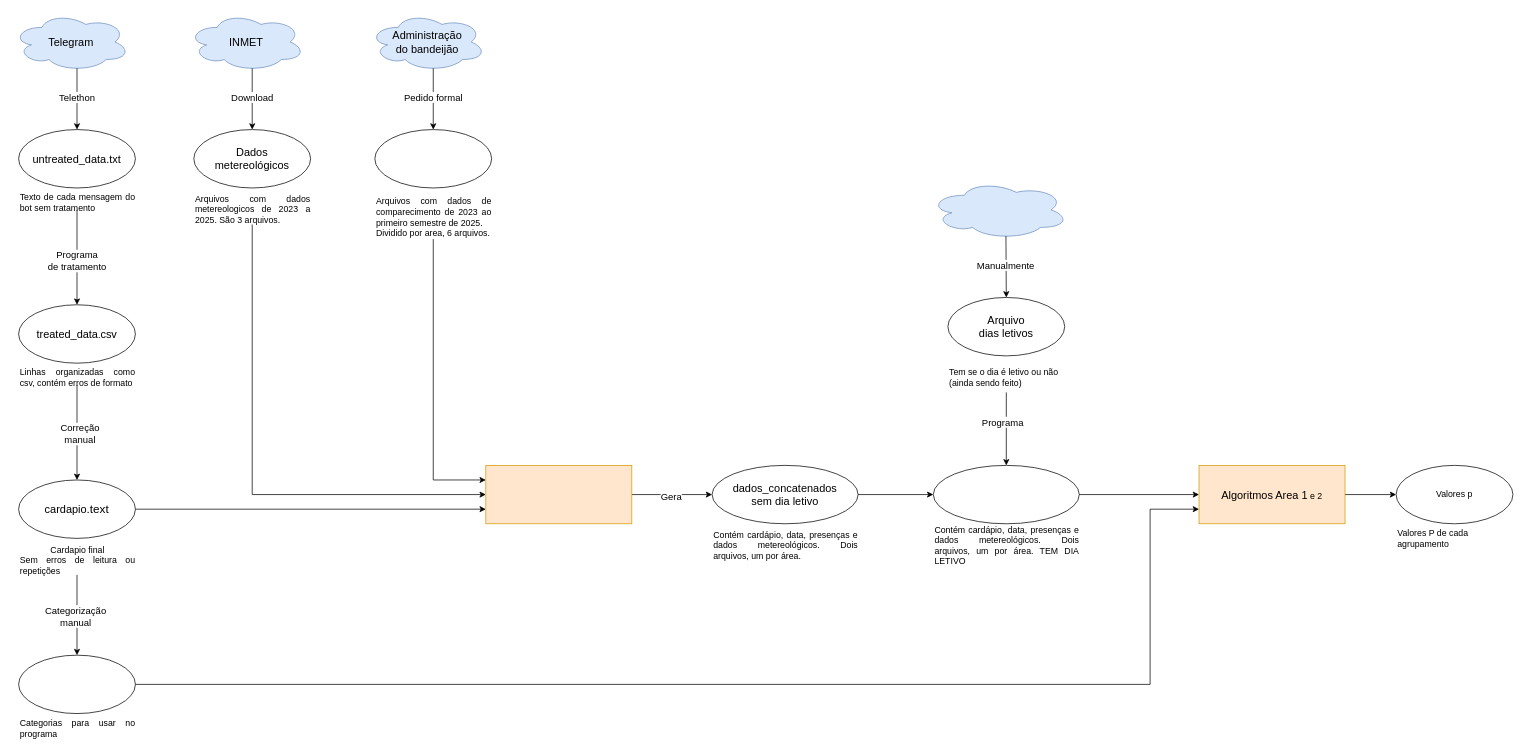
Some shapes in this 1526 by 751 pixel diagram are drawn without their labels. The shapes that lost their labels are listed below. From the top down, each one's centre as x and y in pixels, then its label:
At point (433, 158): "Dados de comparecimento".
At point (998, 209): "Documentos USP".
At point (558, 494): "Exploração de Dados".
At point (1006, 494): "dados_concatenados com dia letivo".
At point (76, 684): "agrupamento_ de_nomes.xlsx".
